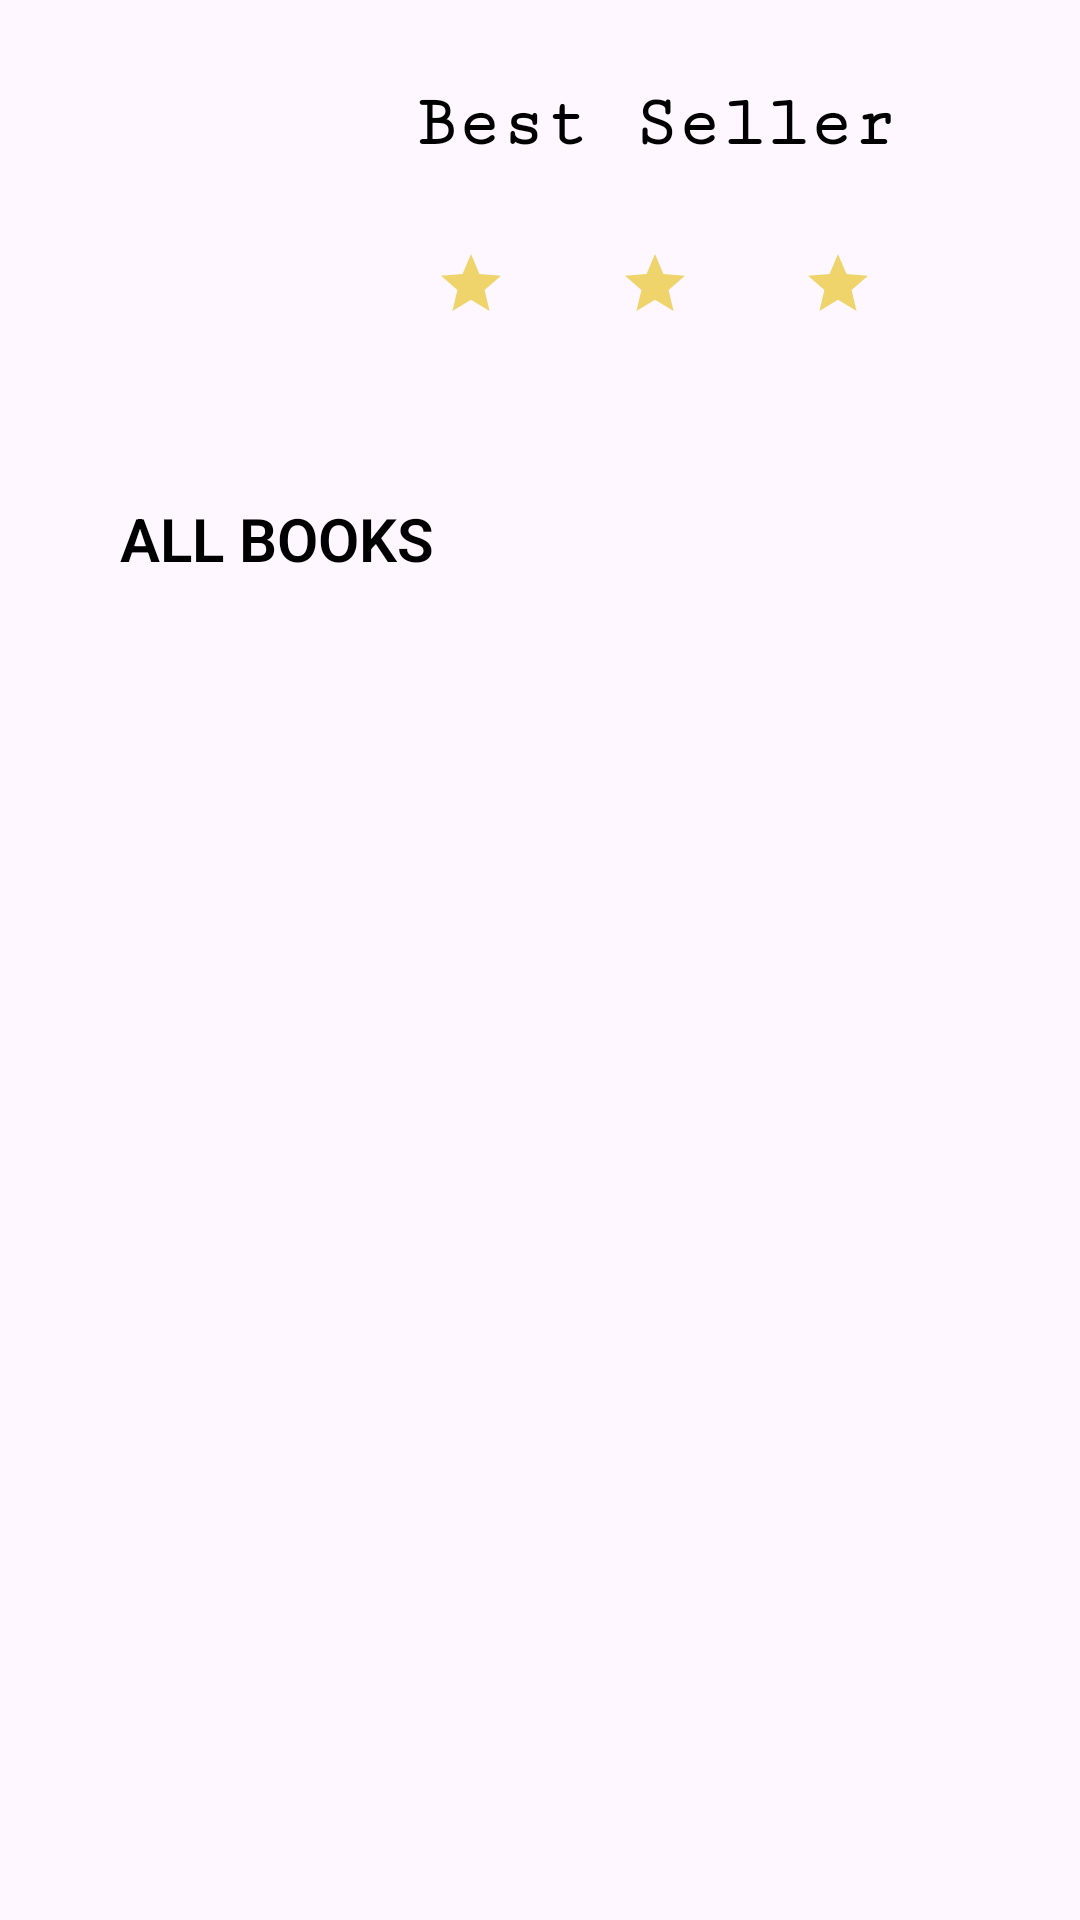

Where to tap for icons on this 1080*1920 app screen, as point (x, y):
star: point (471, 282), point (655, 282), point (838, 282)
